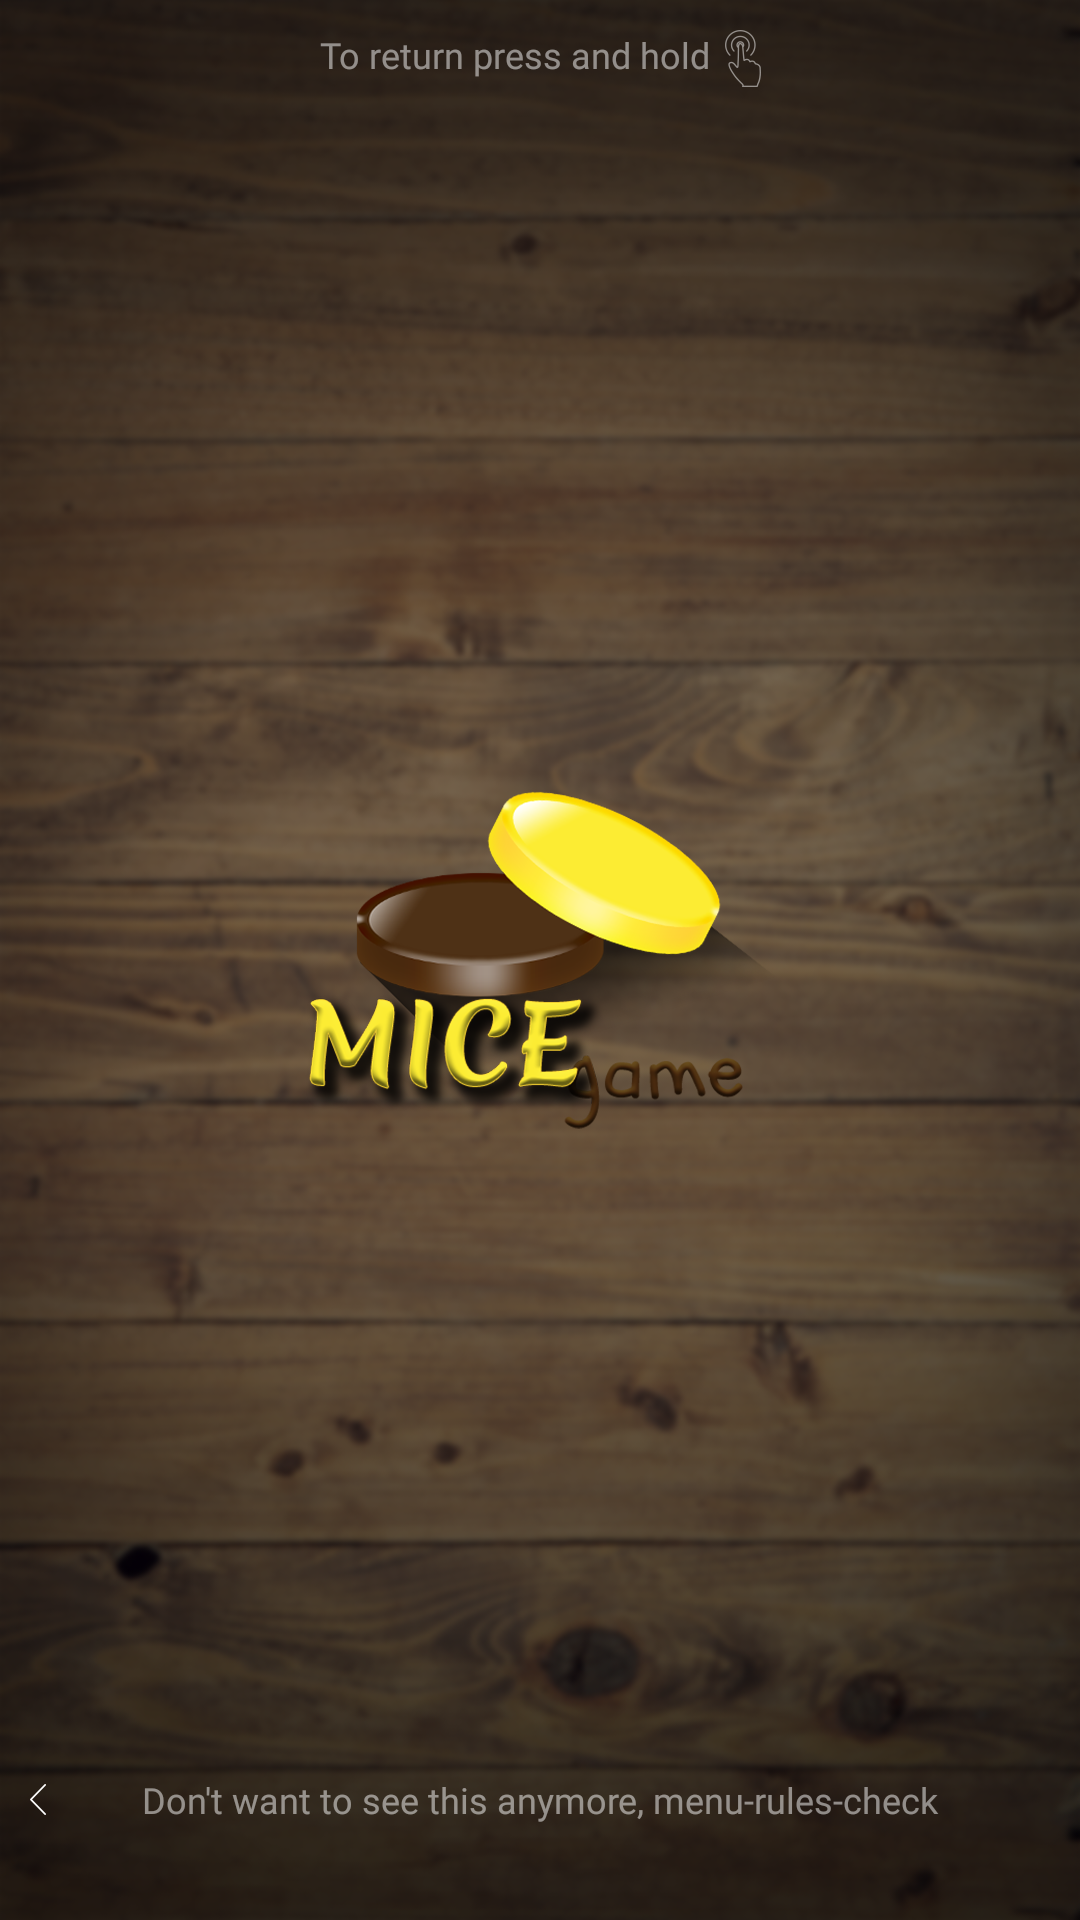

Where icons sit on this 1080px×1920px app screen, as (x1, y1, x2, y2):
touch: (725, 30, 761, 87)
